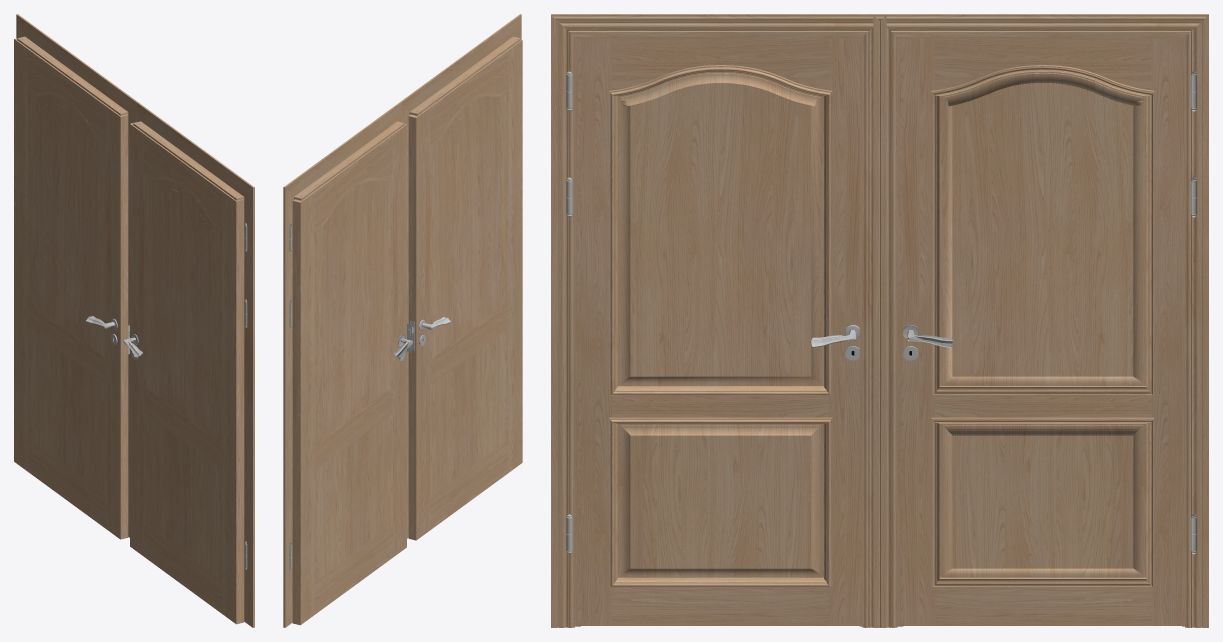
Rendered from Door.fbx.
The picture shows the model from 3 angles, left to right: view 1: azimuth 30°, elevation 25°; view 2: azimuth 150°, elevation 25°; view 3: azimuth 270°, elevation 25°; orthographic projection. The views are drawn at different scales.
Parts seen in each view (by area): view 1: R, L, Frame; view 2: R, L, Frame; view 3: L, R, Frame.
Part boxes in pixels (<box>): R: <box>14,38,128,539</box>; L: <box>123,122,247,624</box>; Frame: <box>16,14,254,627</box>; R: <box>289,124,413,625</box>; L: <box>407,39,522,540</box>; Frame: <box>283,14,521,627</box>; L: <box>566,38,859,625</box>; R: <box>903,38,1196,625</box>; Frame: <box>551,14,1208,627</box>.
Bounding box in the file's own units: 8.02 × 91.67 × 89.23.
